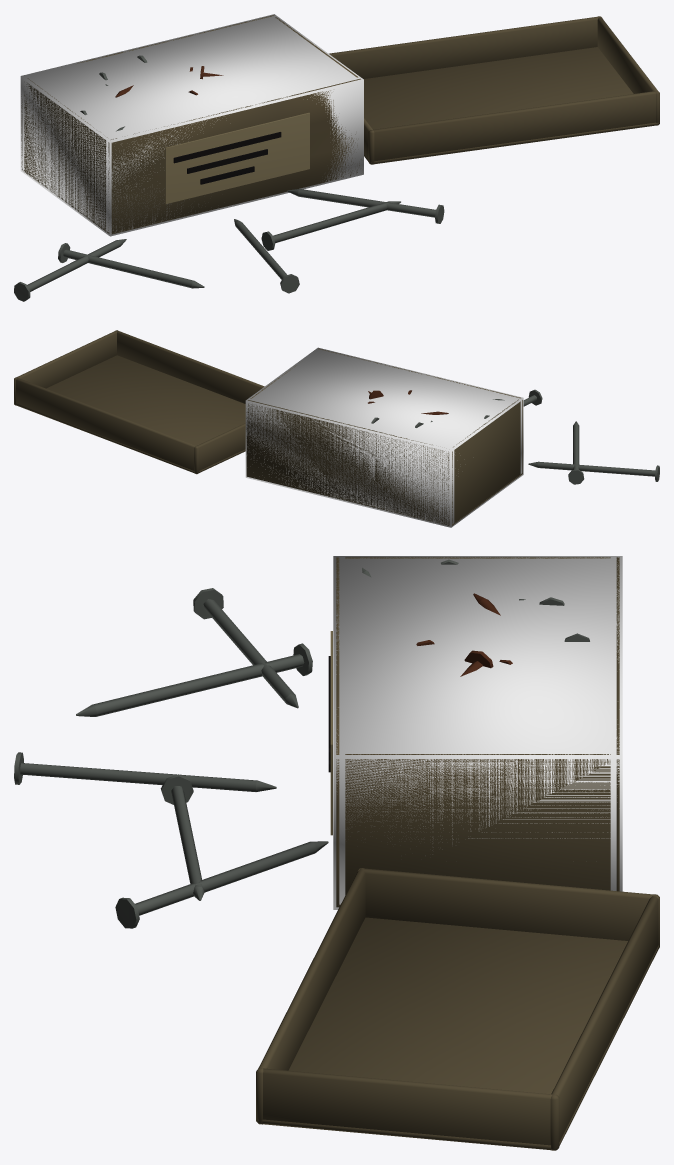
File: clavos.glb
3 renders of one model, top to bottom at view 1: azimuth 30°, elevation 25°; view 2: azimuth 150°, elevation 25°; view 3: azimuth 270°, elevation 25°, orthographic. The views are drawn at different scales.
Parts seen in each view (by area): view 1: caja, caja-colcaja, clavos; view 2: caja, caja-colcaja, clavos; view 3: caja, caja-colcaja, clavos.
Boxes of the visible parts, x1,y1,x2,y2 form: caja: (21,15,659,234); caja-colcaja: (20,14,363,236); clavos: (14,55,444,301); caja: (14,330,522,525); caja-colcaja: (245,347,523,527); clavos: (368,389,659,484); caja: (256,557,659,1150); caja-colcaja: (333,556,622,909); clavos: (14,559,589,928).
Size of the model in its own units: 0.2586 by 0.0388 by 0.1295.
